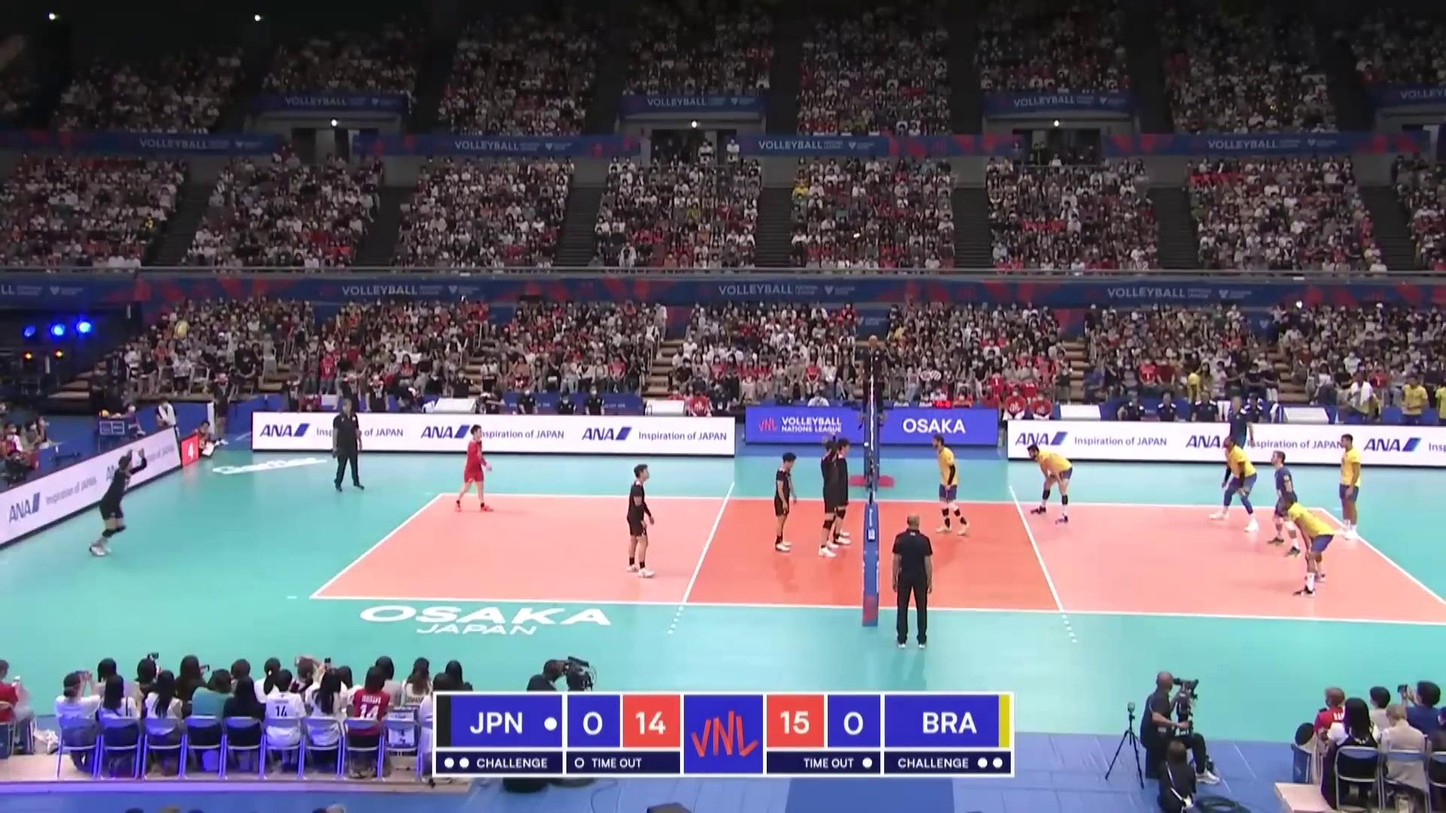player: (90, 449, 145, 558), (1279, 494, 1335, 596), (1212, 435, 1259, 533), (932, 431, 970, 537), (624, 466, 658, 578), (1028, 441, 1073, 523), (1270, 449, 1302, 557), (454, 427, 492, 515), (1336, 435, 1364, 542), (770, 451, 799, 552), (821, 437, 840, 561), (832, 439, 853, 546)
refree: (893, 515, 935, 646), (860, 334, 886, 419)
